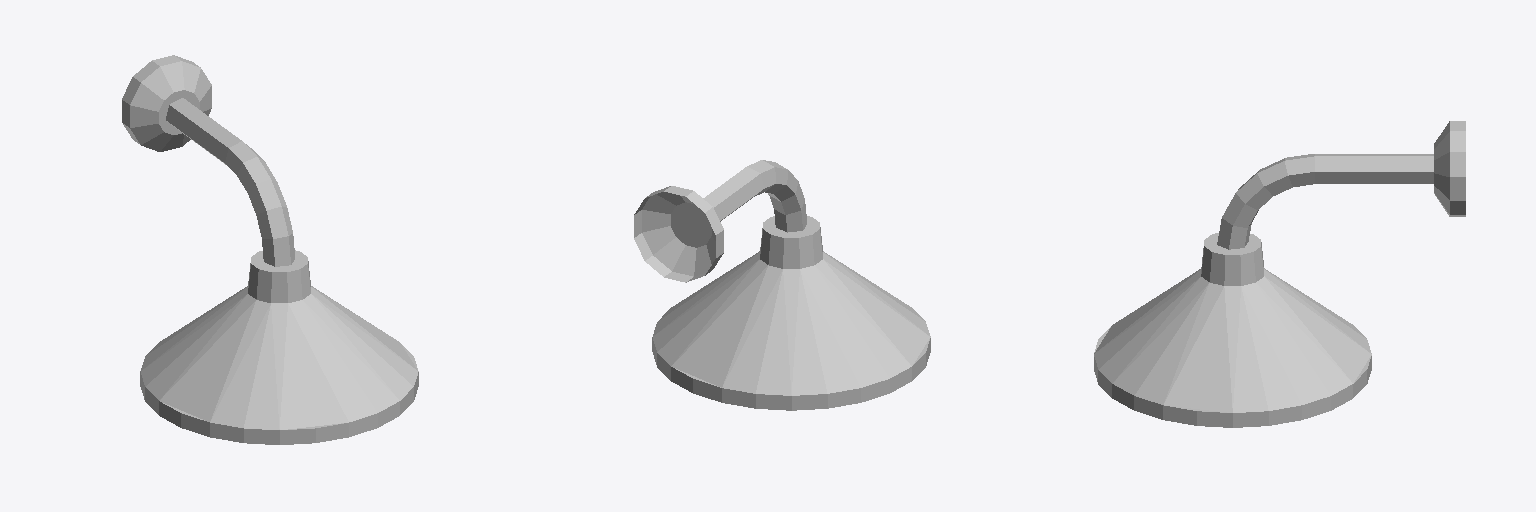
Rendered from lamp_mx_2_off.obj.
3 views of the same model, side by side, from view 1: azimuth 30°, elevation 25°; view 2: azimuth 150°, elevation 25°; view 3: azimuth 270°, elevation 25° (orthographic).
Visible parts, largest first — view 1: lamp_mx_2_off; view 2: lamp_mx_2_off; view 3: lamp_mx_2_off.
Part boxes in pixels (x1,y1,x2,y2): lamp_mx_2_off: (122, 55, 418, 444); lamp_mx_2_off: (634, 160, 930, 410); lamp_mx_2_off: (1094, 121, 1465, 427).
Bounding box in the file's own units: 0.357 × 0.3682 × 0.478.